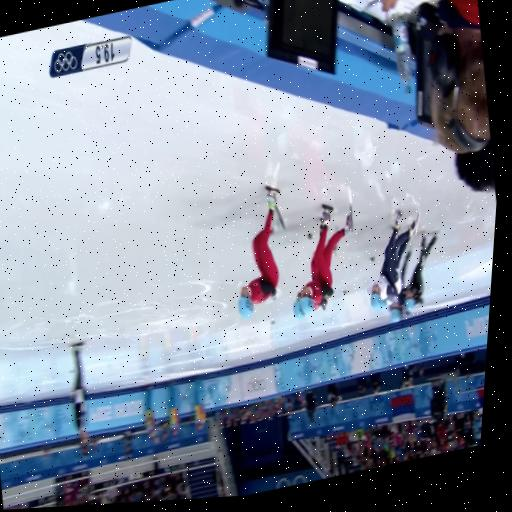Skater: (238, 185, 283, 318), (298, 204, 352, 313), (367, 211, 418, 308), (401, 233, 437, 311), (292, 291, 304, 318)
